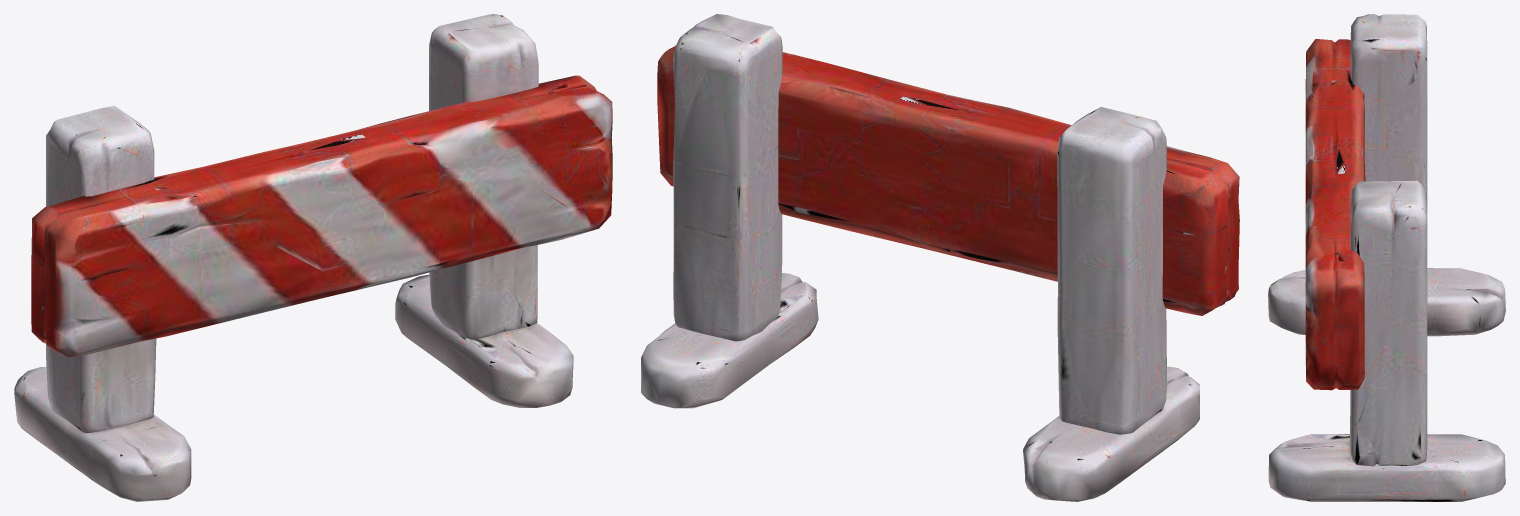
3 views of the same model, side by side, from view 1: azimuth 30°, elevation 25°; view 2: azimuth 150°, elevation 25°; view 3: azimuth 270°, elevation 25° (orthographic). The views are drawn at different scales.
Visible parts, largest first — view 1: geometry_0; view 2: geometry_0; view 3: geometry_0.
Part boxes in pixels (x1,y1,x2,y2): geometry_0: (14, 14, 612, 501); geometry_0: (641, 14, 1239, 501); geometry_0: (1268, 14, 1505, 501).
Bounding box in the file's own units: 0.957 × 0.5434 × 0.397.
1 material, 1 textured.
